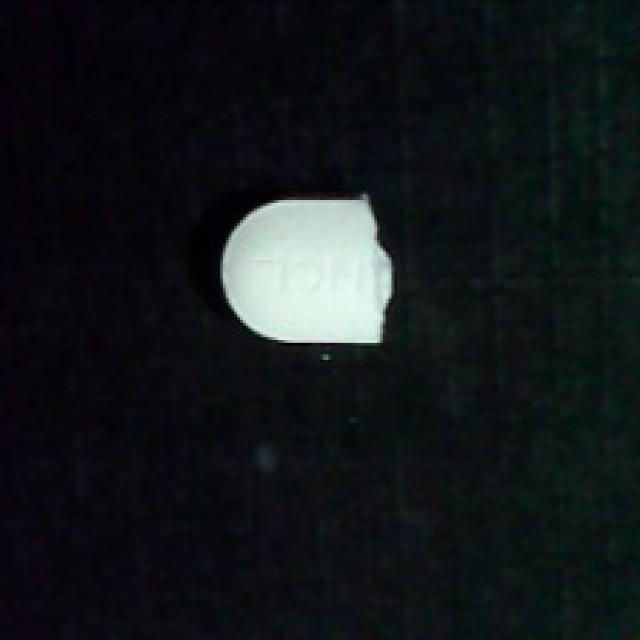defected: (203, 189, 403, 360)
